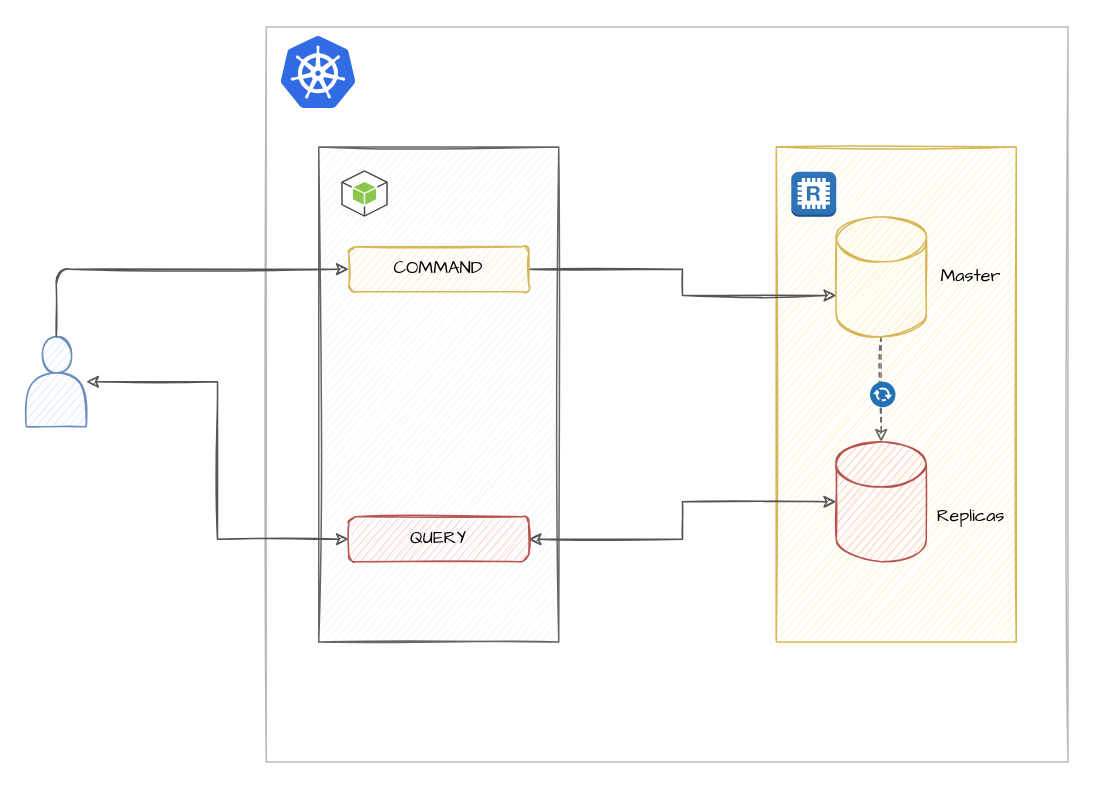
This 1095x788 diagram has some shape labels left out. Here are the shapes that lost their labels. From the top down, the centre of each, then its label:
At [880,276]: "Write Store".
At [880,501]: "Read Store".
